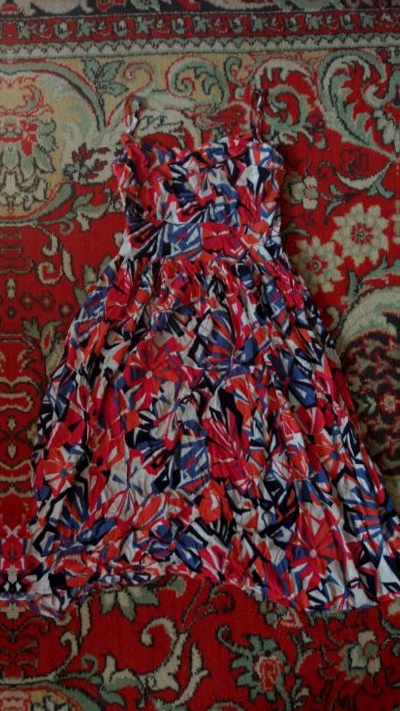Dress: (19, 80, 361, 655), (0, 81, 3, 656)
